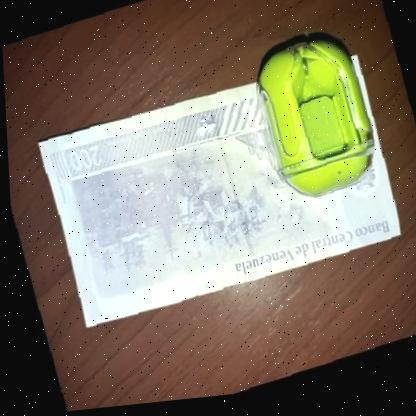two_hundred-back-vef: (32, 51, 404, 337)
